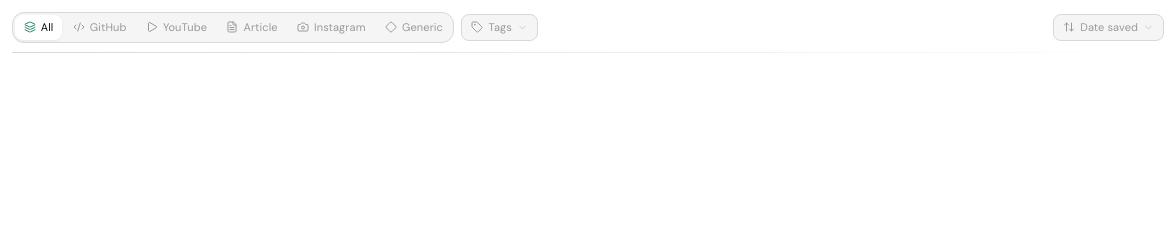
it: FilterBar › TagSelect › selects a tag on click and shows chip
Click the button "Tags" at (500, 28), box [462,14,538,41]
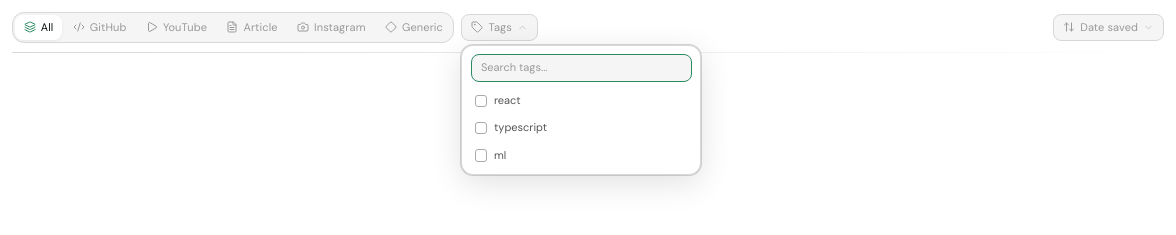
Click the option "react" at (582, 101), box [466,87,697,114]
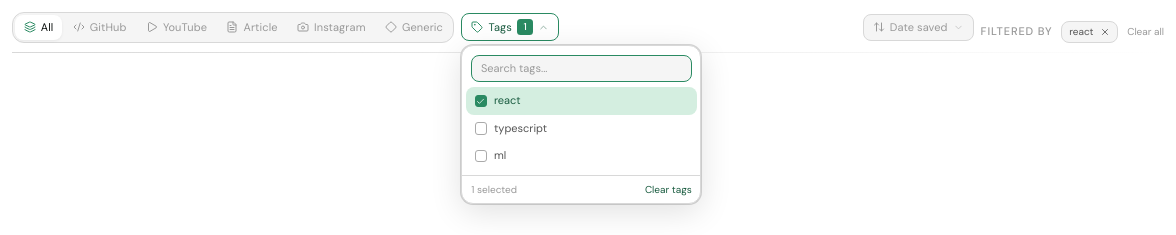
expect the text "1" is shown: met, box [517,19,533,35]
